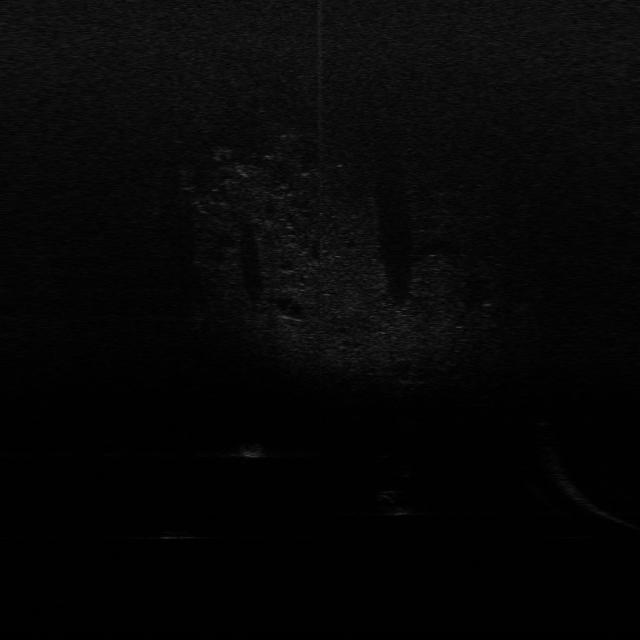cube: (156, 527, 197, 542)
square cage: (236, 440, 266, 460)
tyre: (374, 488, 414, 516)
